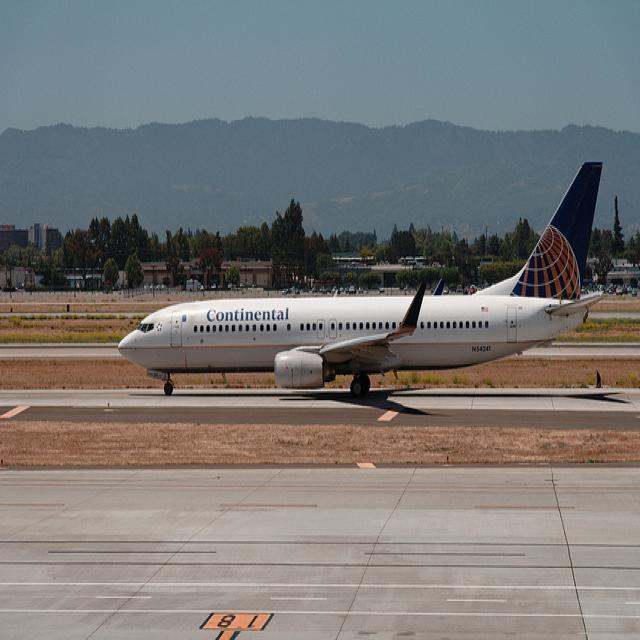airplane: (116, 158, 609, 399)
